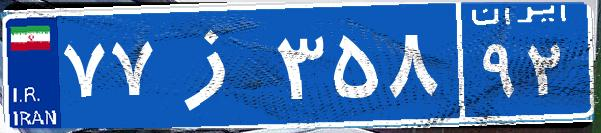2: (525, 38, 570, 115)
3: (273, 28, 330, 110)
5: (330, 28, 385, 110)
7: (57, 26, 110, 107), (110, 28, 158, 105)
8: (385, 28, 445, 110)
9: (475, 38, 525, 113)
ز: (158, 15, 273, 115)
